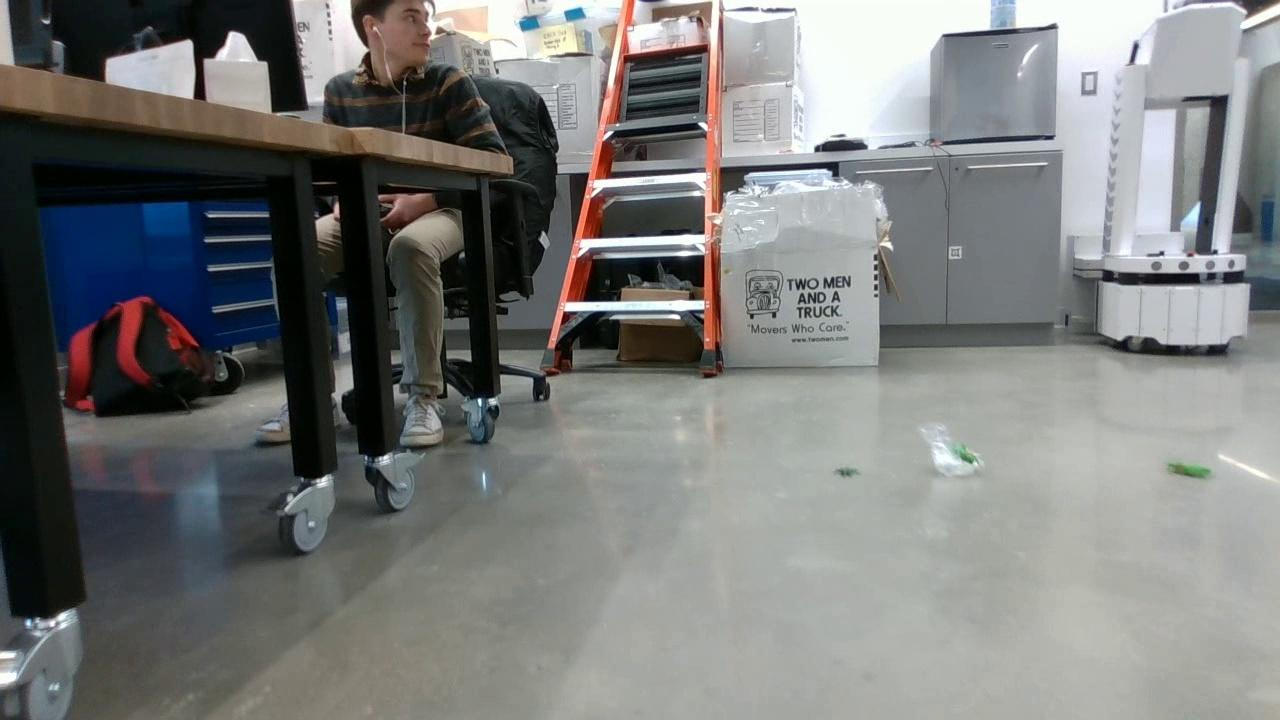grasshopper: (1165, 464, 1211, 485), (954, 445, 979, 467)
